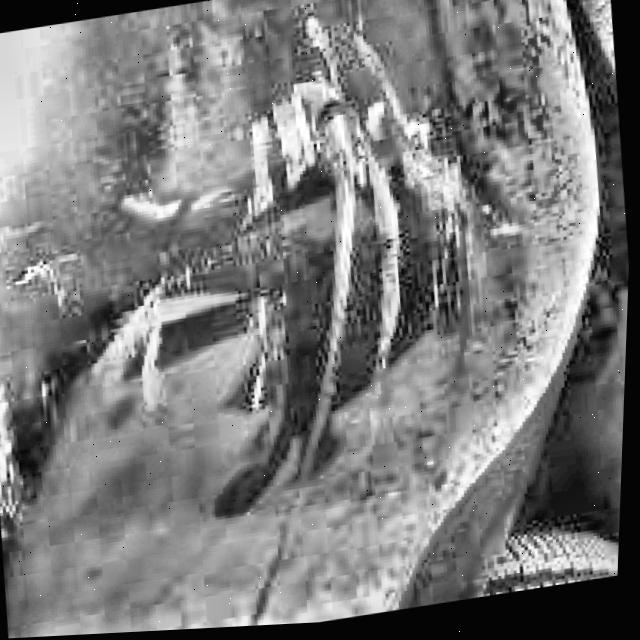bumper_scratch: (199, 0, 507, 426), (0, 219, 94, 366)
